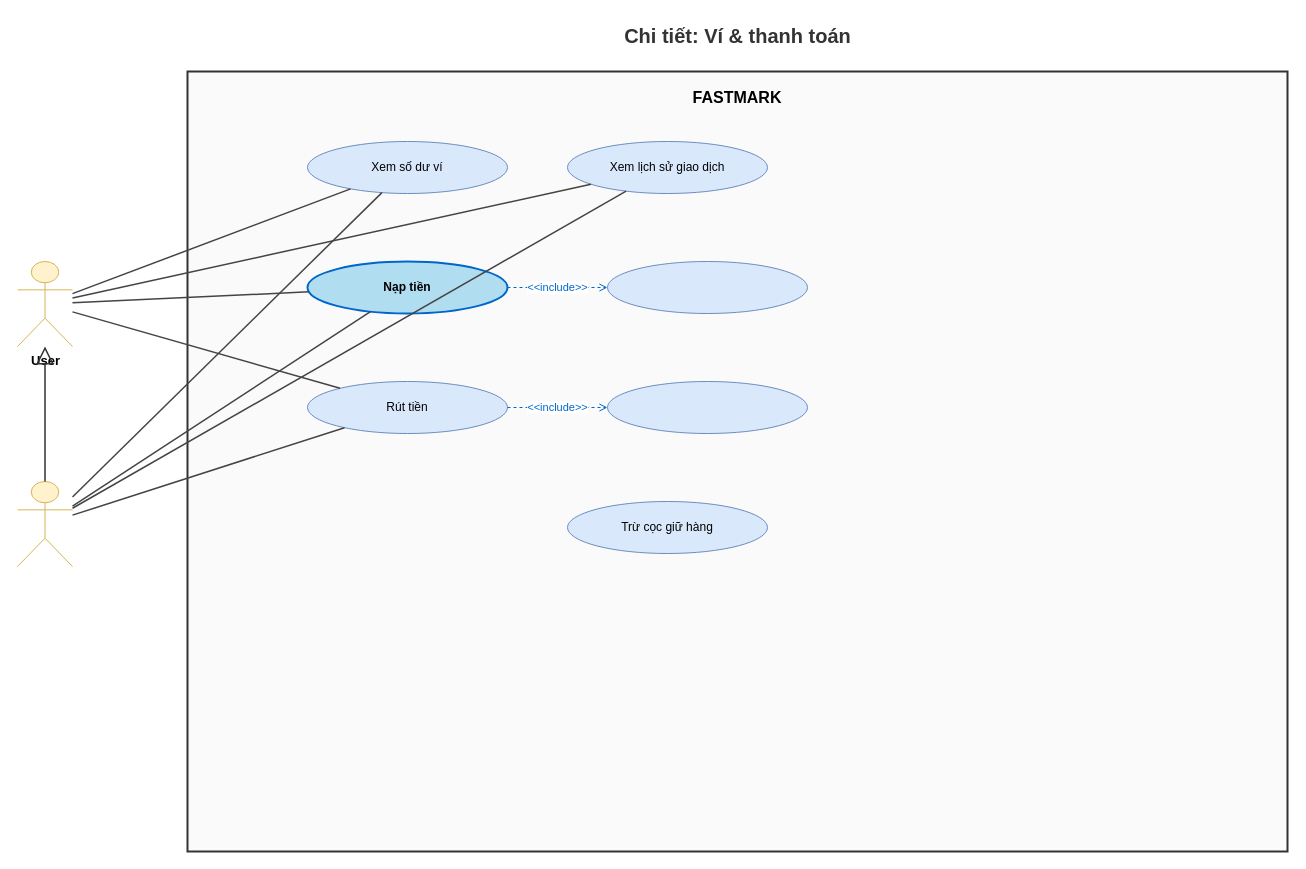
This 1306x869 diagram has some shape labels left out. Here are the shapes that lost their labels. From the top down, the box of each, then its label:
(606, 260, 808, 314): Thanh toán PayOS
(606, 380, 808, 434): Chọn ngân hàng thụ hưởng
(16, 480, 72, 566): Seller
